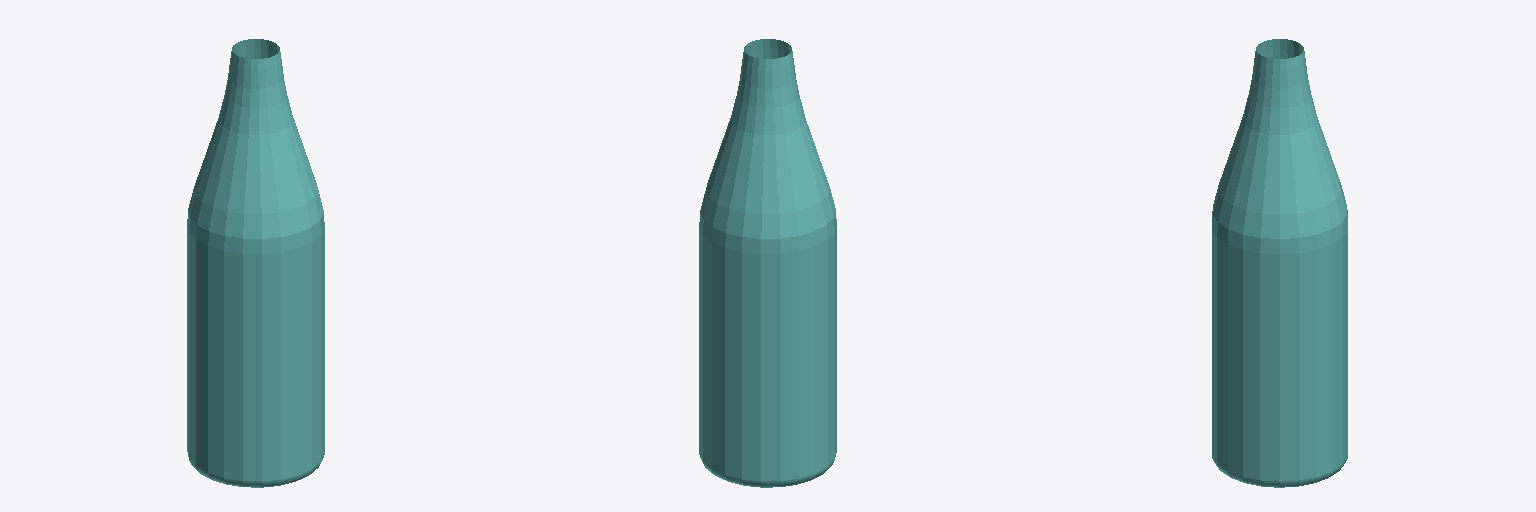
File: bottle_only.obj
3 views of the same model, side by side, from view 1: azimuth 30°, elevation 25°; view 2: azimuth 150°, elevation 25°; view 3: azimuth 270°, elevation 25° (orthographic).
Visible parts, largest first — view 1: bottle-glass_Plane.013; view 2: bottle-glass_Plane.013; view 3: bottle-glass_Plane.013.
Part boxes in pixels (x1,y1,x2,y2): bottle-glass_Plane.013: (187,39,324,487); bottle-glass_Plane.013: (699,39,836,487); bottle-glass_Plane.013: (1212,39,1347,487).
Bounding box in the file's own units: 10.52 × 34.87 × 10.42.